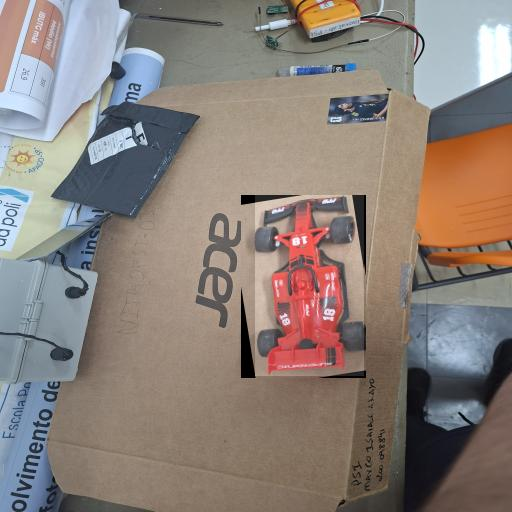carro: (256, 195, 364, 376)
